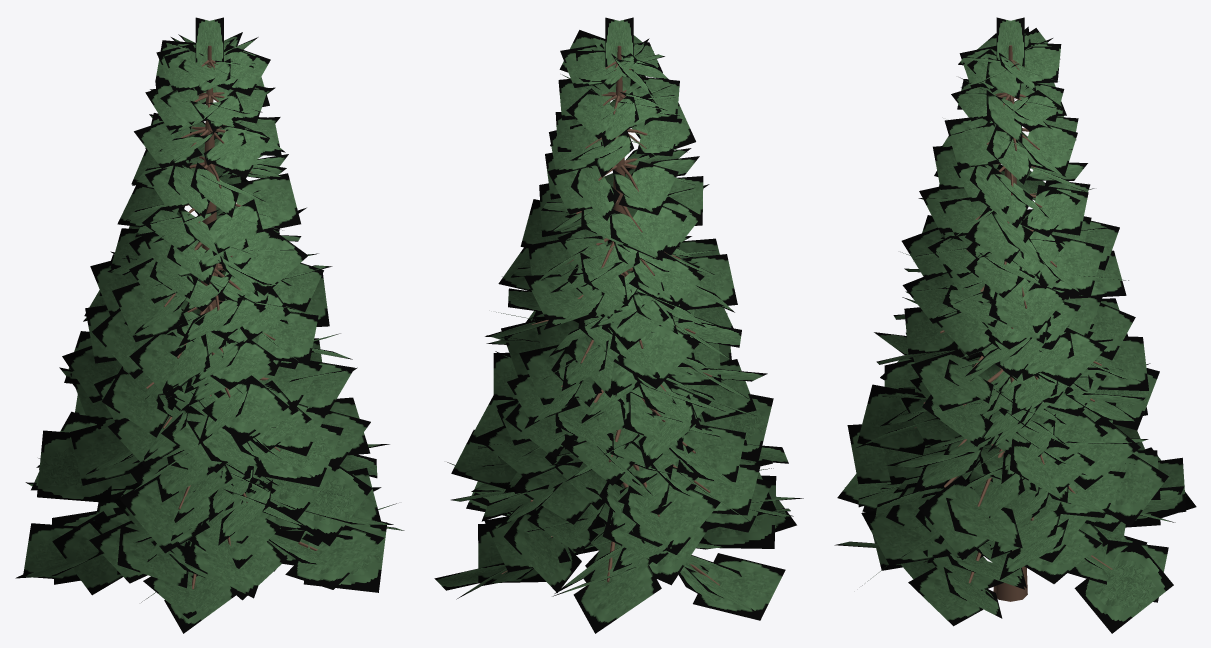
The model's file is pine_2.glb.
The picture shows the model from 3 angles, left to right: view 1: azimuth 30°, elevation 25°; view 2: azimuth 150°, elevation 25°; view 3: azimuth 270°, elevation 25°; orthographic projection.
Visible parts, largest first — view 1: pine_2; view 2: pine_2; view 3: pine_2.
Part boxes in pixels (x1=…): pine_2: x1=15, y1=17, x2=404, y2=633; pine_2: x1=434, y1=17, x2=803, y2=633; pine_2: x1=834, y1=17, x2=1196, y2=633.
Bounding box in the file's own units: 7.1 × 11.74 × 6.73.
Materials: 2 (1 with a texture image).
